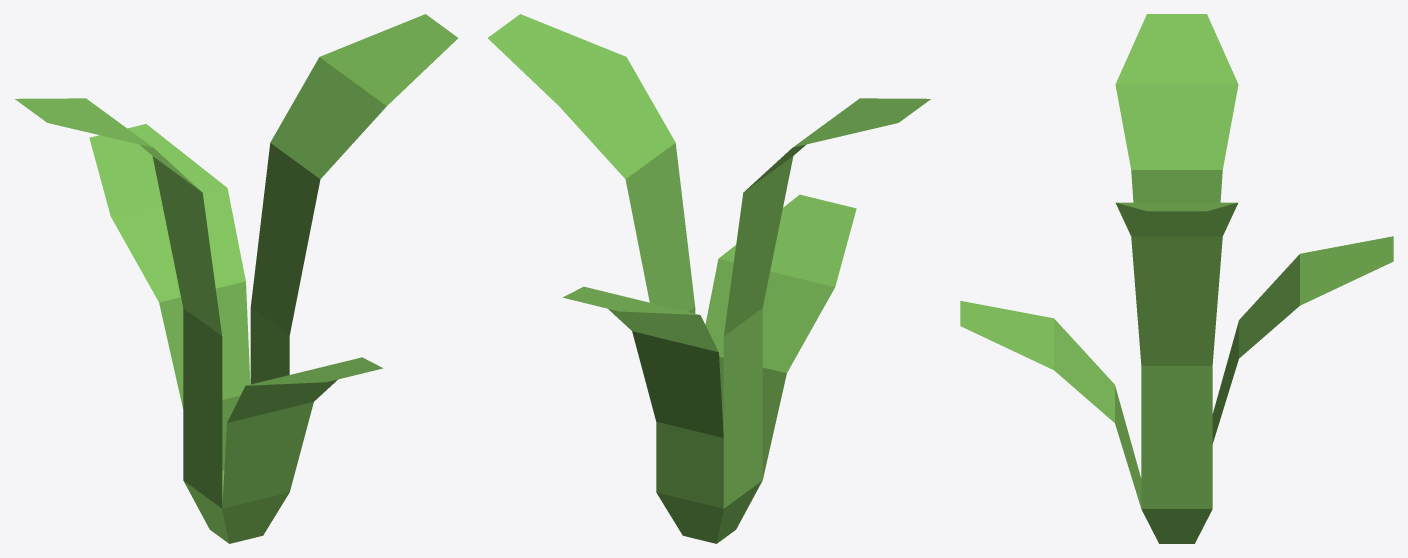
Rendered from crops_leafsStageA.glb.
3 views of the same model, side by side, from view 1: azimuth 30°, elevation 25°; view 2: azimuth 150°, elevation 25°; view 3: azimuth 270°, elevation 25° (orthographic). The views are drawn at different scales.
Visible parts, largest first — view 1: crops_leafsStageA; view 2: crops_leafsStageA; view 3: crops_leafsStageA.
Part boxes in pixels (x1=…): crops_leafsStageA: x1=15, y1=14, x2=457, y2=543; crops_leafsStageA: x1=488, y1=14, x2=930, y2=543; crops_leafsStageA: x1=960, y1=14, x2=1393, y2=543.
Size of the model in its own units: 0.3894 by 0.4271 by 0.3894.
